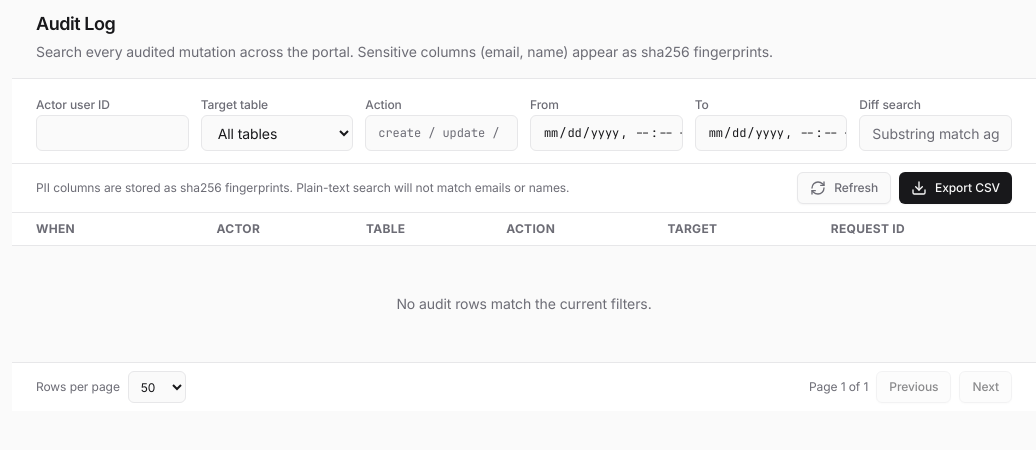
Scenario: AdminAuditPage › L-14: a filter change is written to the URL (shareable view)
Select "scans" in the dropdown with test id "admin-audit-target-table": [277, 133] box [201, 115, 353, 151]
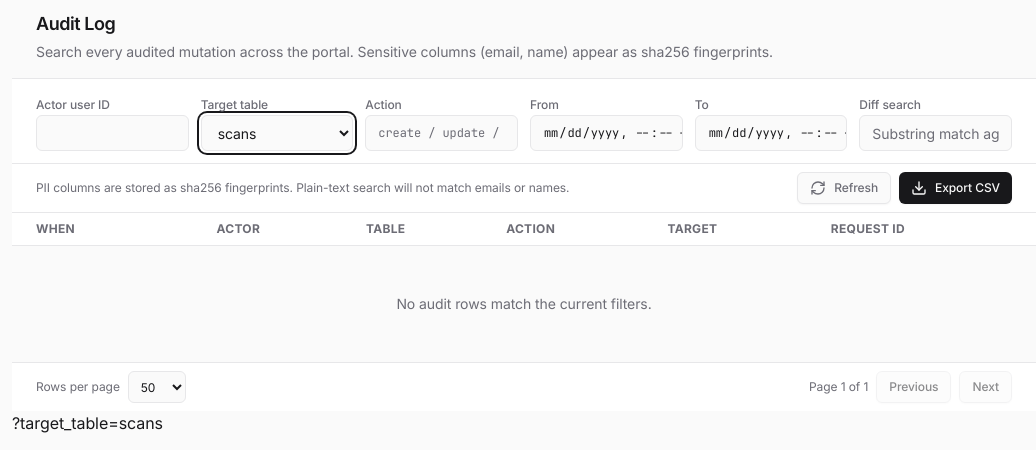
Result: the text with test id "location-search" shows "target_table=scans" at [12, 413, 163, 433]
